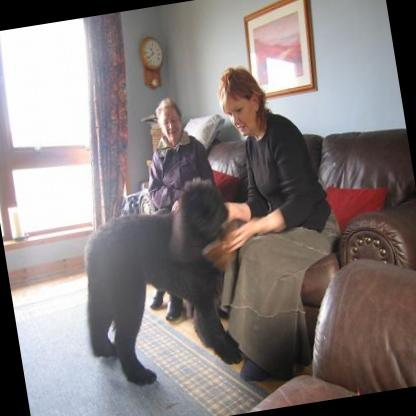Newfoundland: (66, 172, 252, 392)
